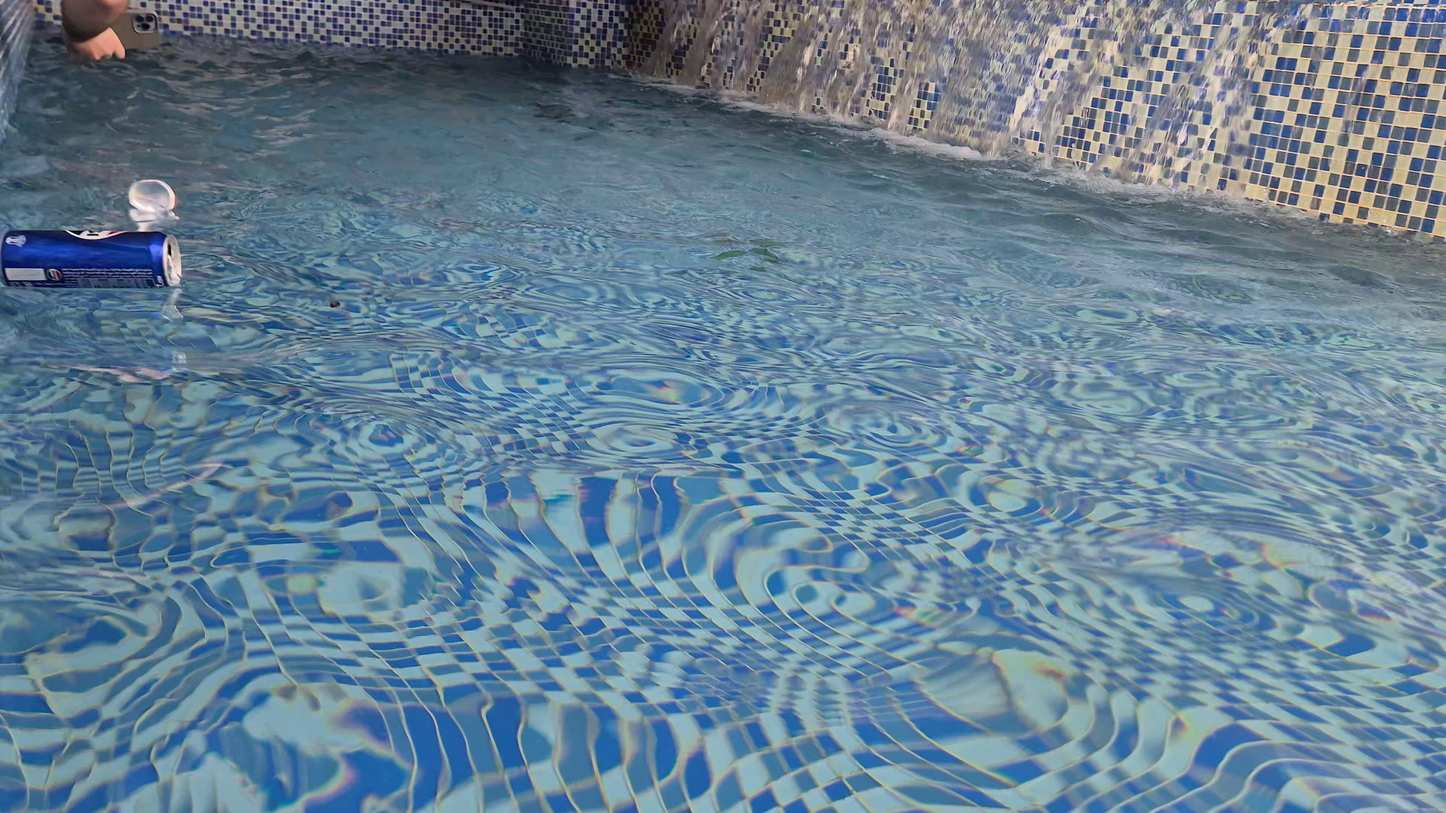debris: (2, 220, 187, 295), (123, 175, 180, 220)
